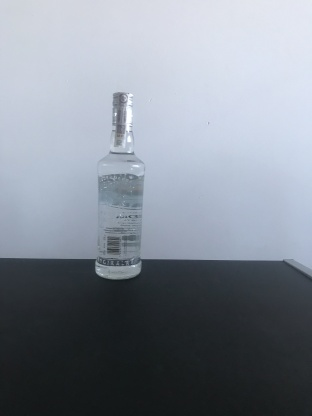nakretka: (109, 88, 135, 128)
